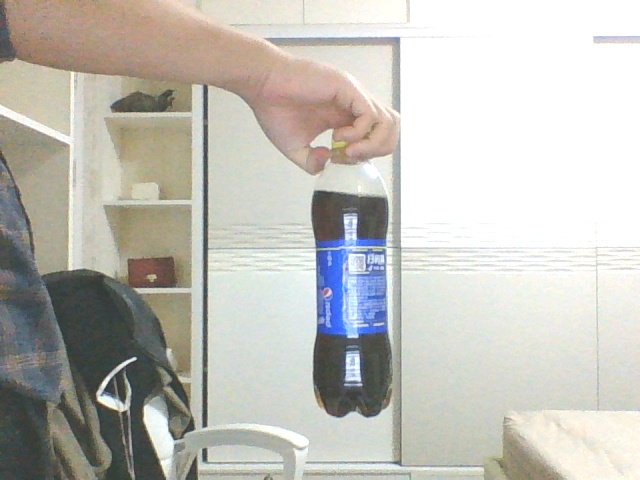Cola: (311, 141, 394, 417)
